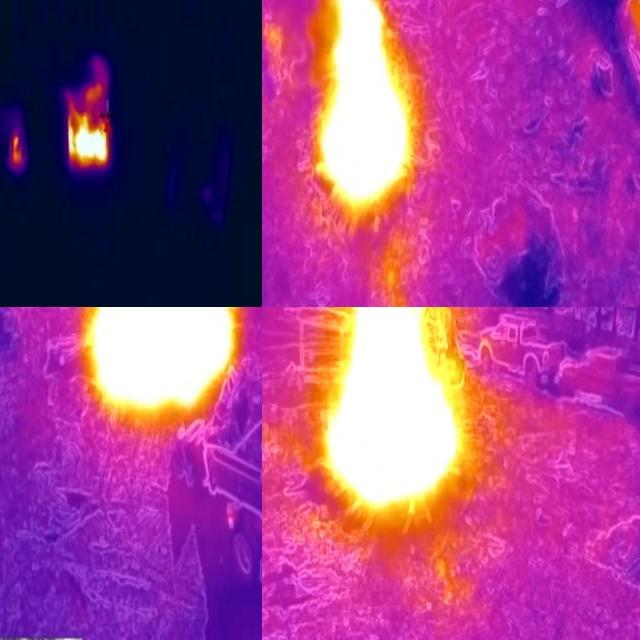fire: (319, 308, 463, 514), (313, 1, 417, 216), (77, 308, 241, 435), (68, 71, 112, 169), (10, 132, 26, 170)
